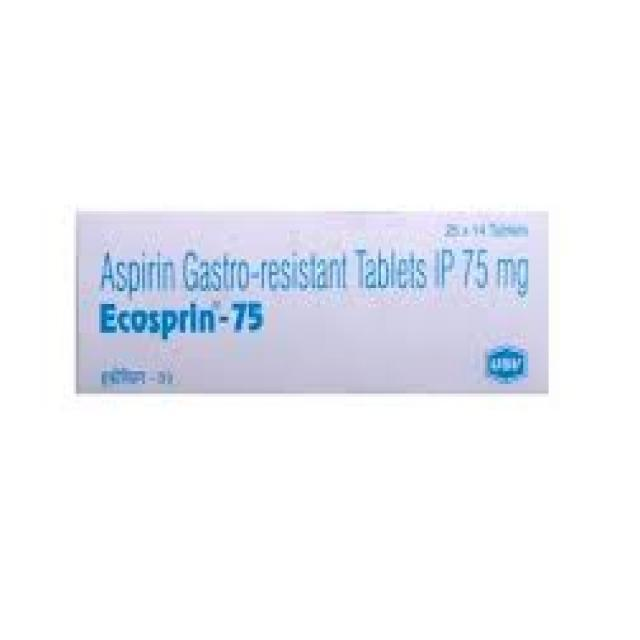authentic: (63, 195, 556, 411)
